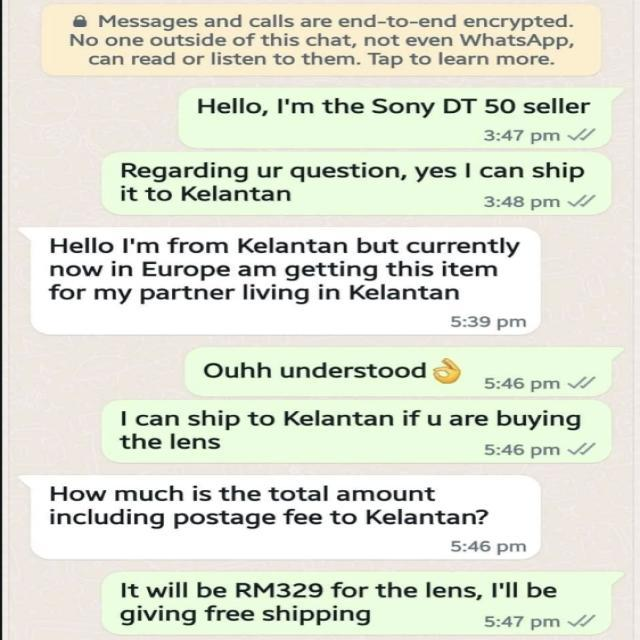scam: (34, 225, 520, 332), (36, 469, 518, 552)
